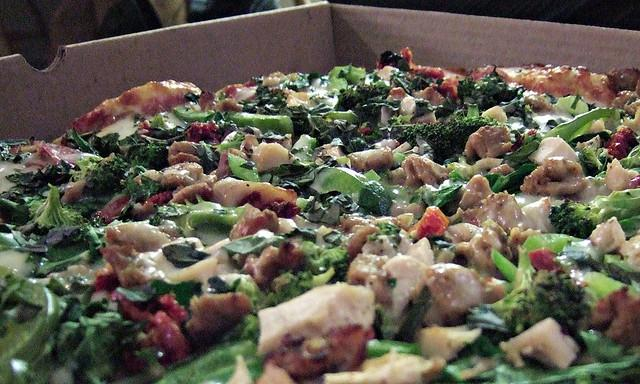broccoli: (489, 269, 593, 339), (72, 312, 148, 384), (396, 113, 501, 165), (152, 337, 263, 384), (256, 266, 336, 311), (540, 106, 620, 142), (28, 185, 90, 229), (548, 198, 604, 238), (329, 81, 400, 112), (69, 156, 126, 194), (226, 112, 294, 138), (228, 277, 268, 317), (124, 143, 172, 171), (359, 179, 393, 216), (328, 58, 367, 90), (365, 338, 422, 358), (490, 247, 518, 283), (92, 132, 121, 159), (172, 106, 212, 123), (578, 146, 604, 170), (321, 110, 359, 123), (458, 78, 480, 94), (296, 198, 309, 212)
